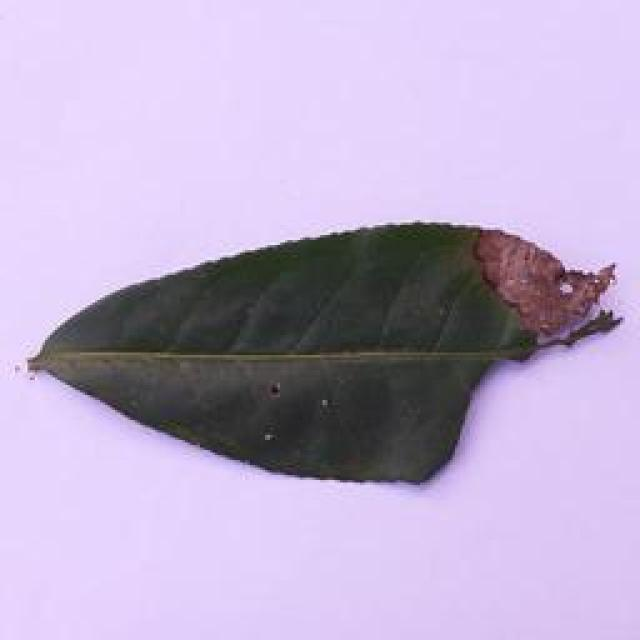Gray Blight: (29, 218, 624, 488)
